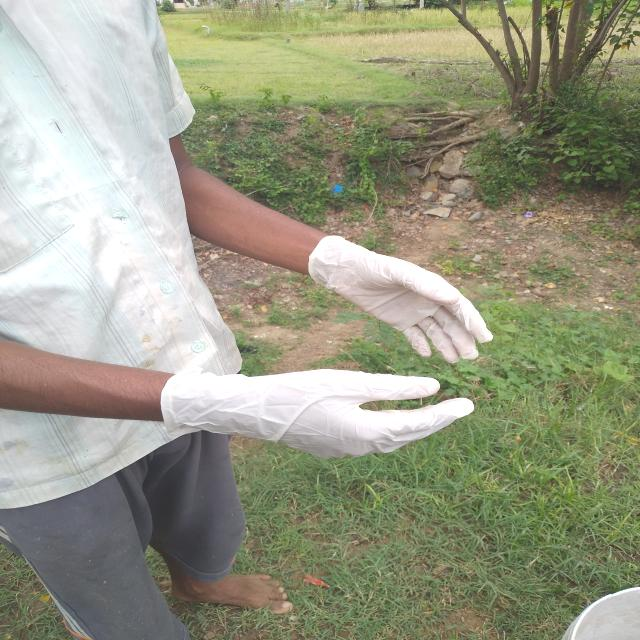glove: (153, 362, 478, 464), (303, 224, 519, 365)
